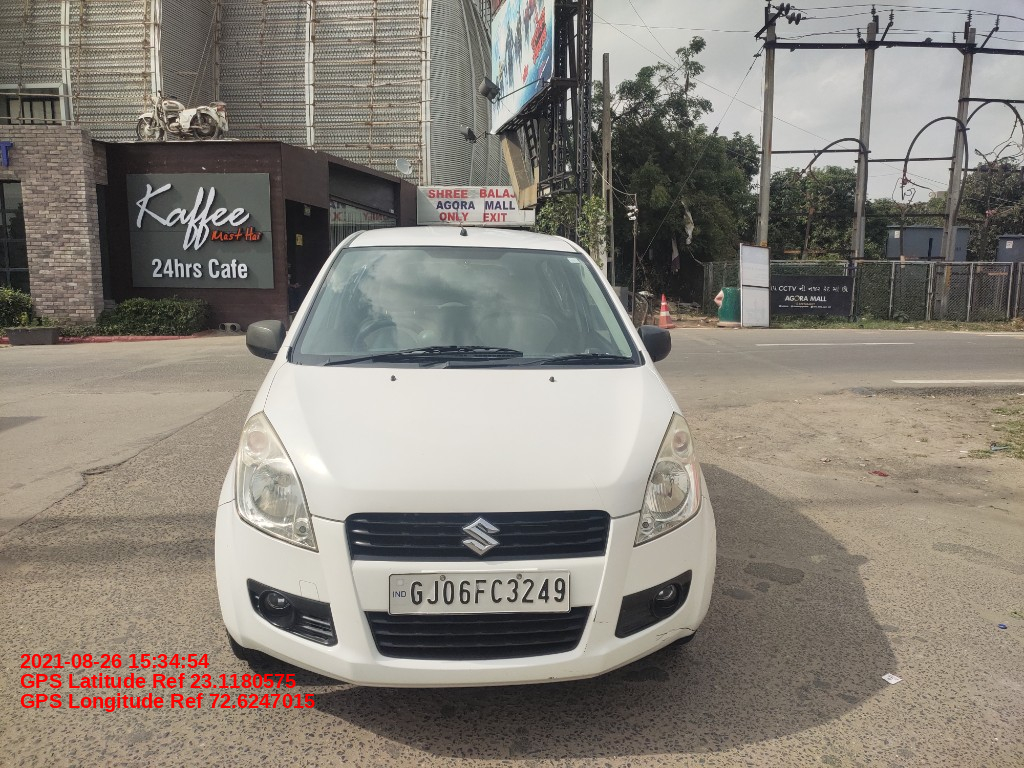Cracked: (654, 619, 695, 641)
Scratched: (590, 608, 613, 628), (580, 639, 591, 657), (543, 672, 559, 682)
